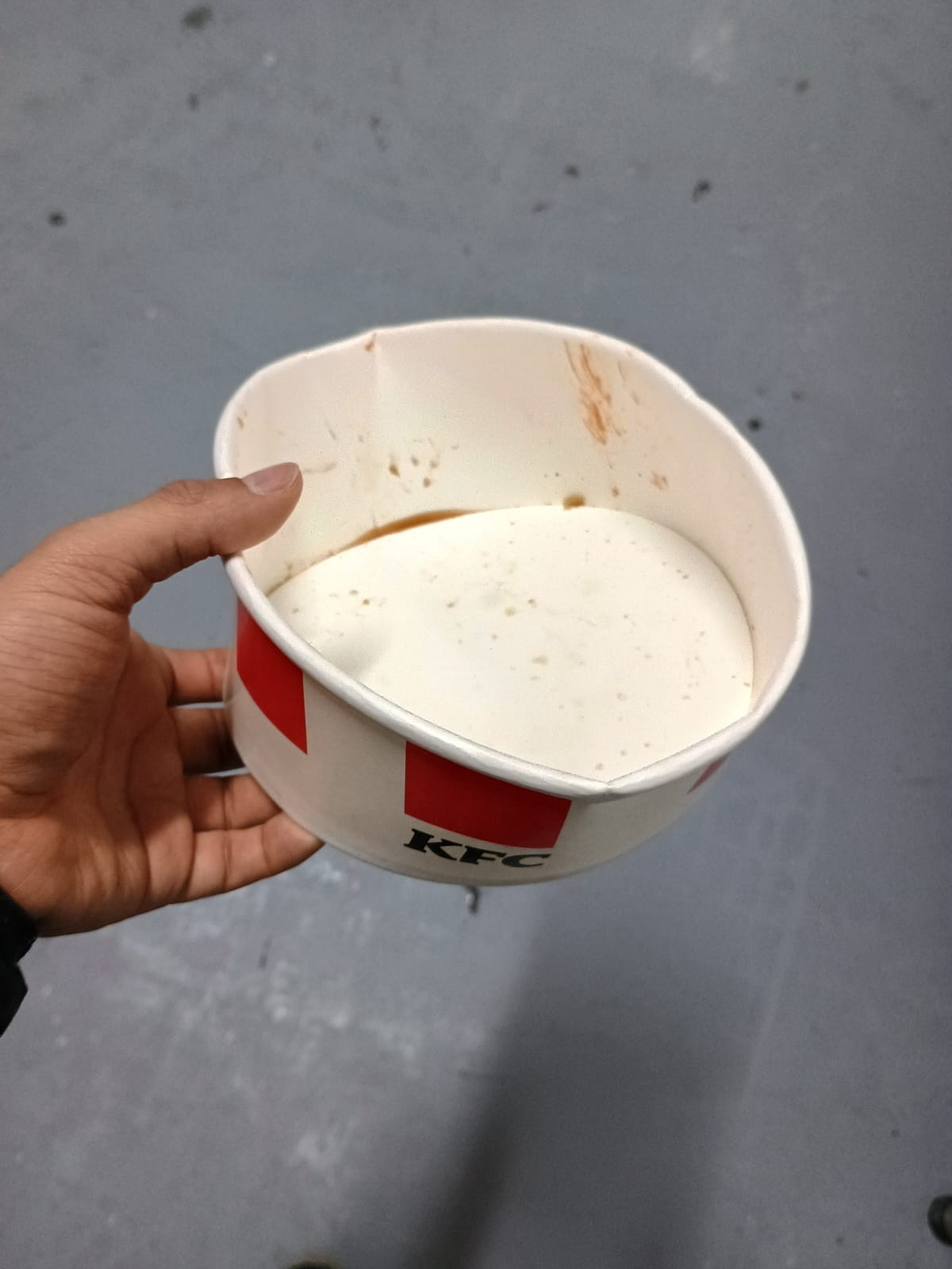Carton: (212, 315, 809, 883)
